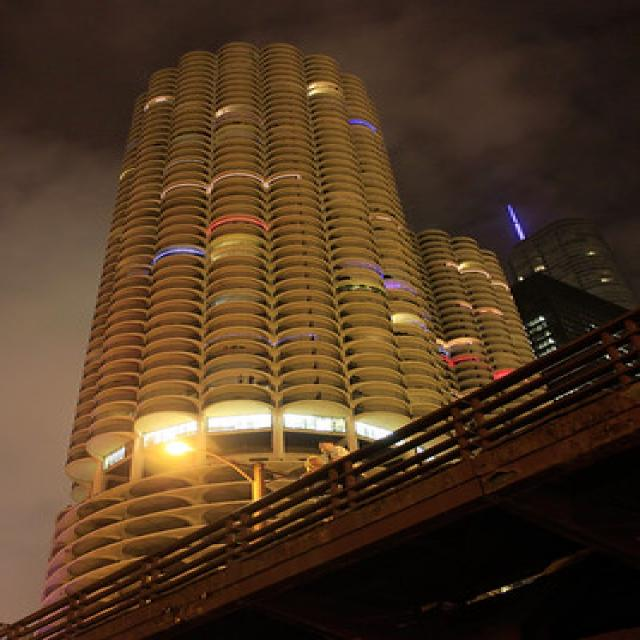Normal_building: (39, 36, 464, 588)
